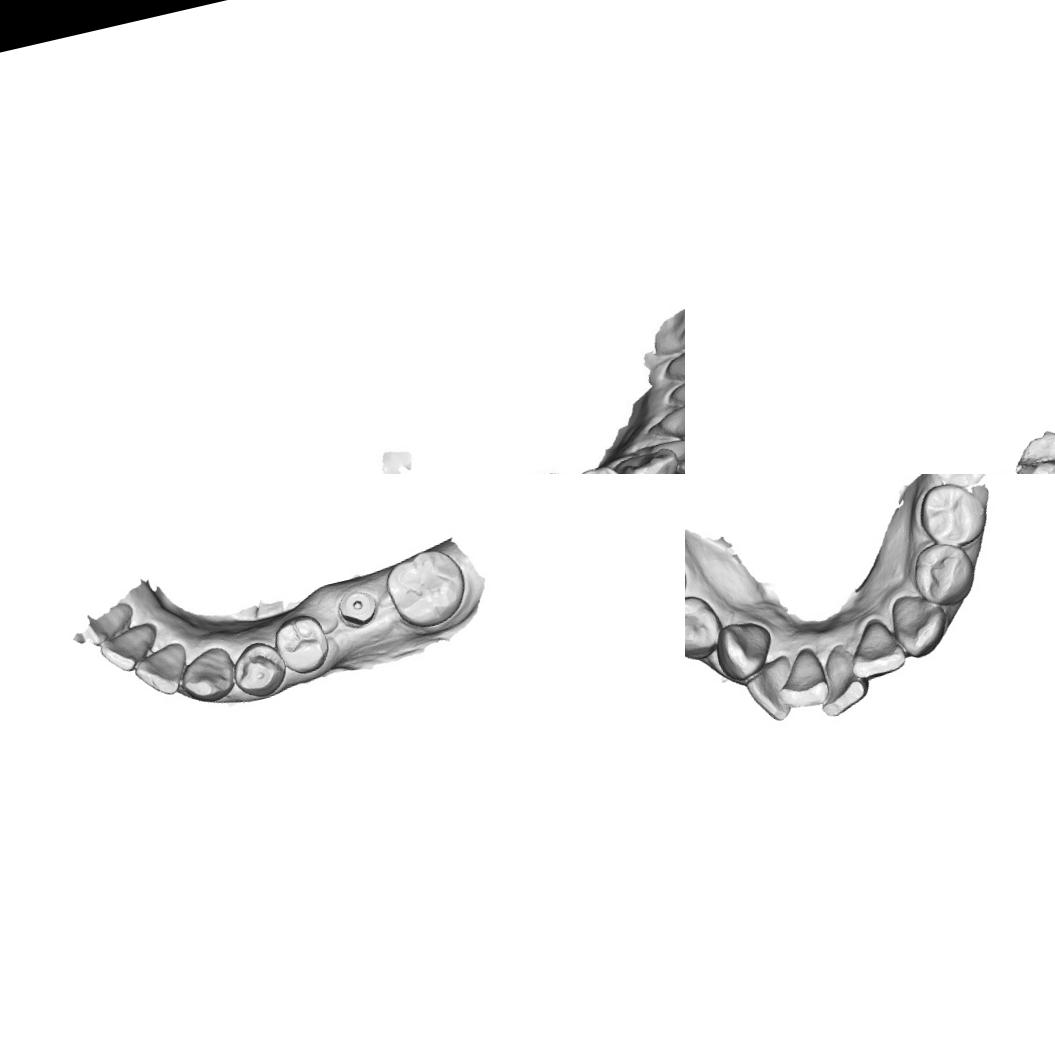canine: (708, 614, 778, 688), (888, 589, 952, 664), (176, 642, 241, 706), (621, 440, 685, 474)
implant: (333, 582, 384, 632)
implant_minus: (968, 466, 1014, 474)
incisor: (809, 643, 872, 720), (740, 654, 800, 726), (846, 614, 910, 680), (773, 647, 835, 715), (94, 619, 164, 677), (129, 640, 195, 700), (656, 422, 685, 474), (658, 392, 685, 444), (661, 330, 685, 383), (667, 363, 685, 409)
molar: (376, 540, 476, 637), (1006, 419, 1055, 474)
premolar: (913, 474, 990, 554), (908, 539, 978, 609), (270, 610, 333, 679), (226, 638, 289, 701), (685, 589, 727, 666), (571, 459, 635, 474)
